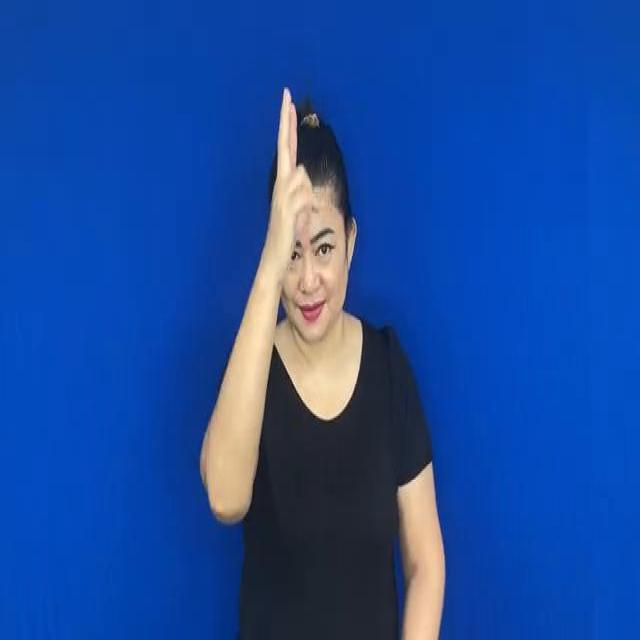chicken: (262, 86, 316, 240)
